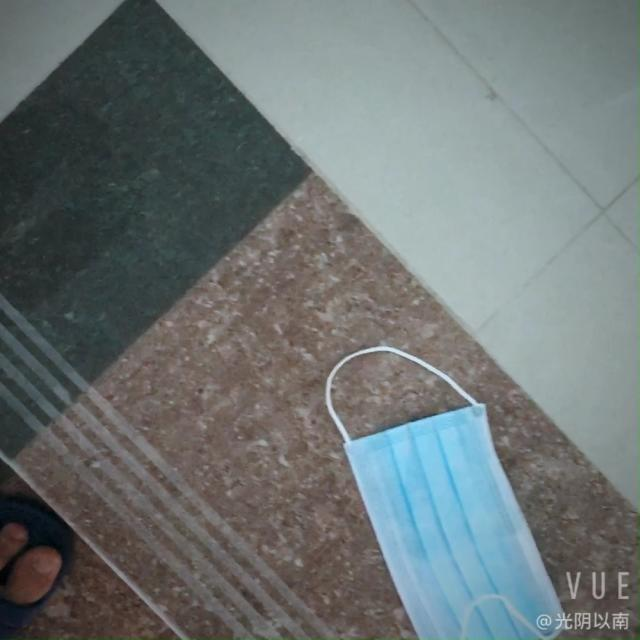non-organic waste: (330, 398, 564, 633)
